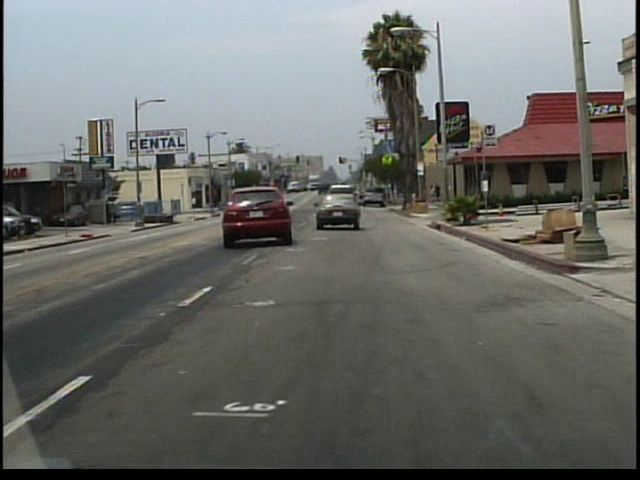person: (435, 181, 443, 201), (428, 183, 435, 203)
